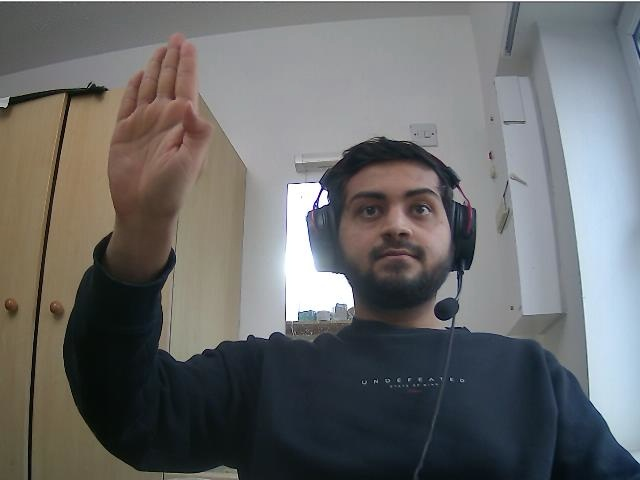up: (105, 32, 216, 212)
